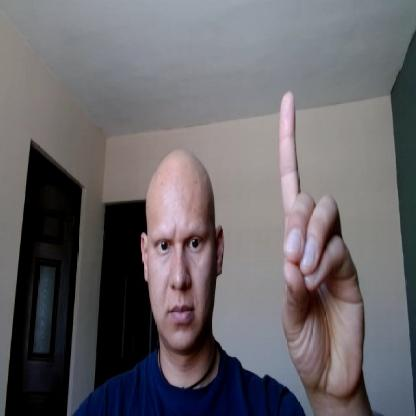D: (279, 90, 367, 392)
